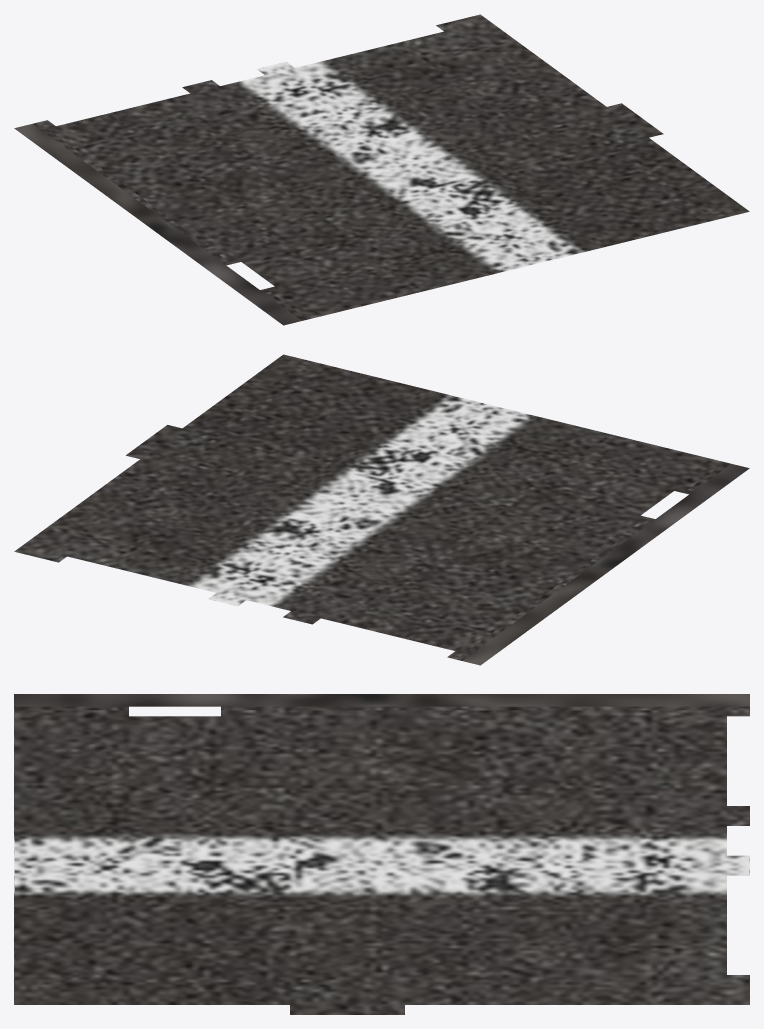
File: decor5.obj
3 renders of one model, top to bottom at view 1: azimuth 30°, elevation 25°; view 2: azimuth 150°, elevation 25°; view 3: azimuth 270°, elevation 25°, orthographic. The views are drawn at different scales.
Visible parts, largest first — view 1: Cube.015_Cube.043; view 2: Cube.015_Cube.043; view 3: Cube.015_Cube.043.
Boxes of the visible parts, box(x1,y1,x2,y2) form: Cube.015_Cube.043: box(14, 14, 749, 325); Cube.015_Cube.043: box(14, 354, 749, 665); Cube.015_Cube.043: box(14, 694, 749, 1014).
Bounding box in the file's own units: 13398 × 0 × 12988.
1 material, 1 textured.
